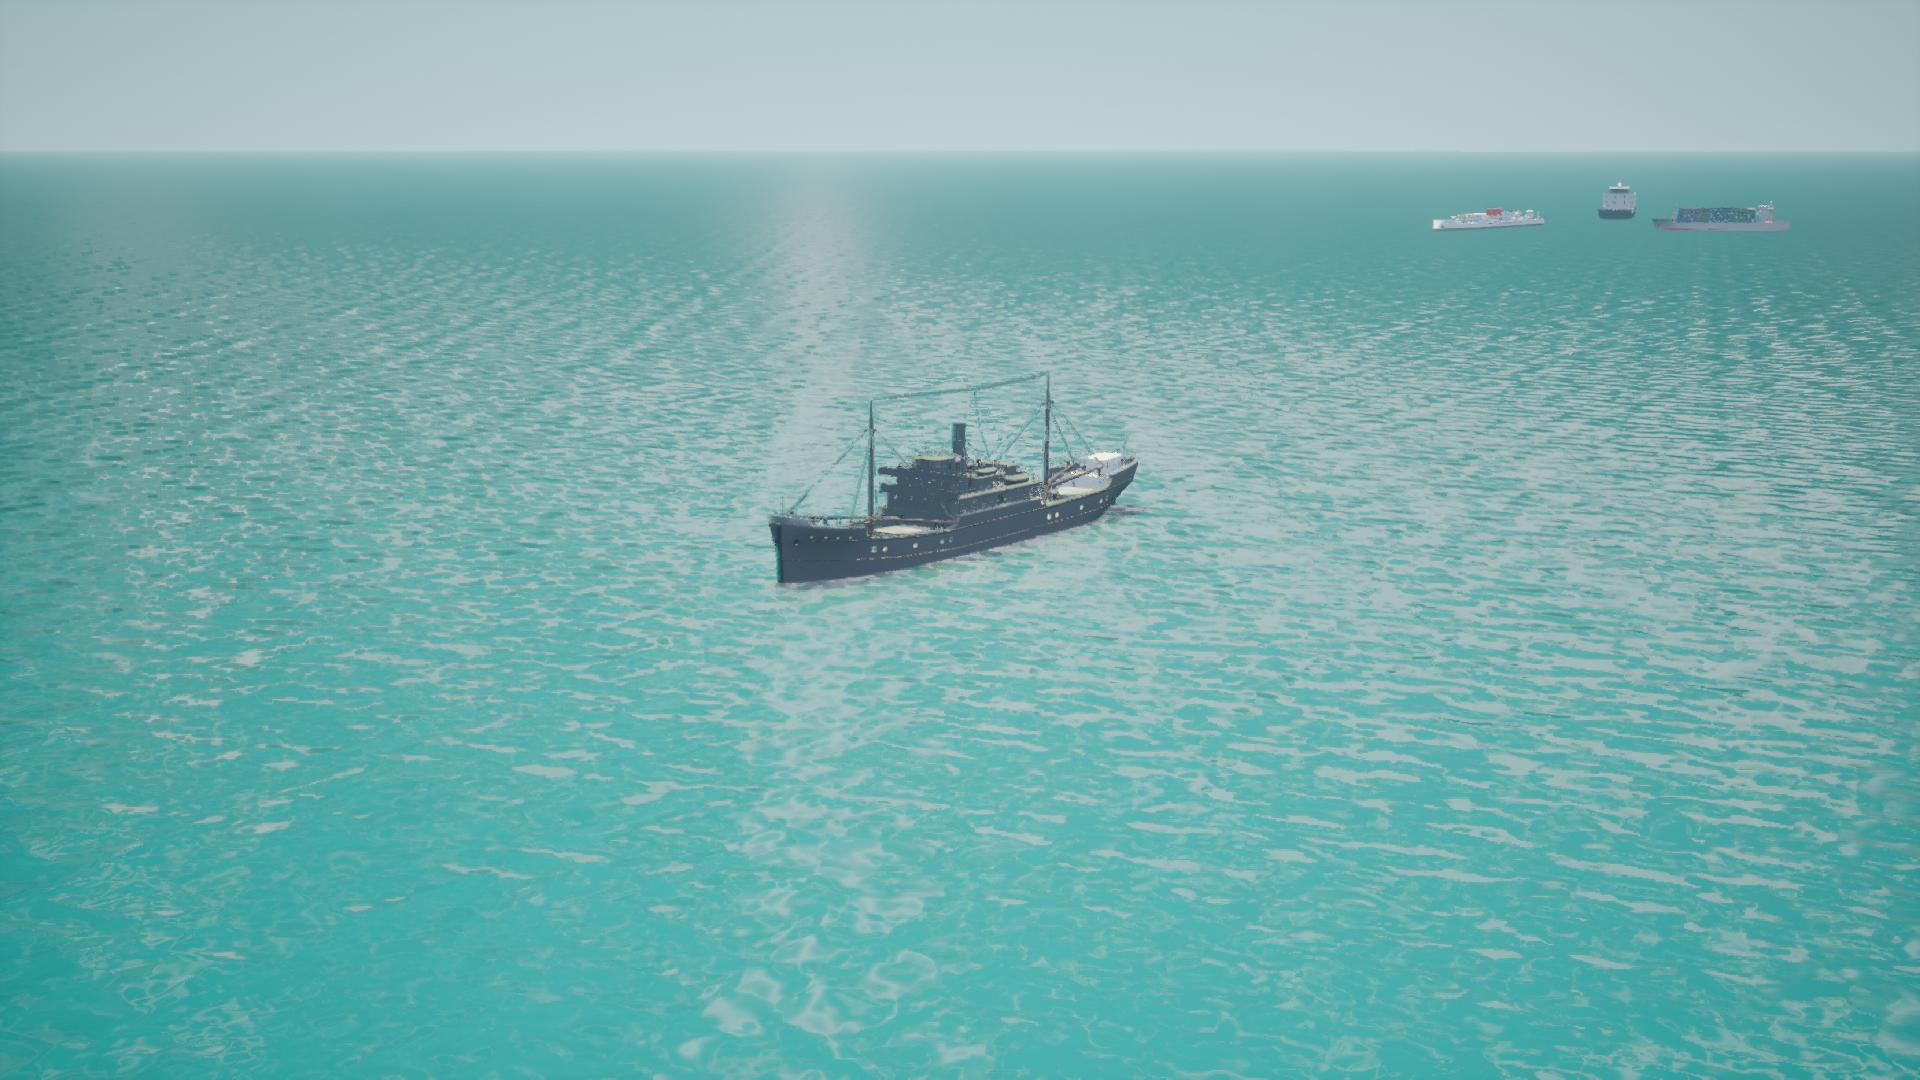Fishing Boat: (765, 435, 1146, 588), (1660, 204, 1797, 233), (1431, 208, 1552, 232), (1605, 183, 1643, 222)
